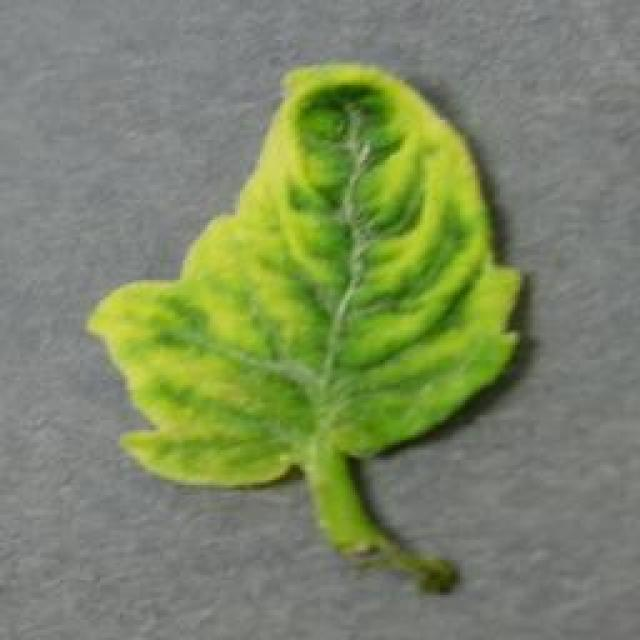Tomato yellow virus leaf: (76, 62, 529, 492)
